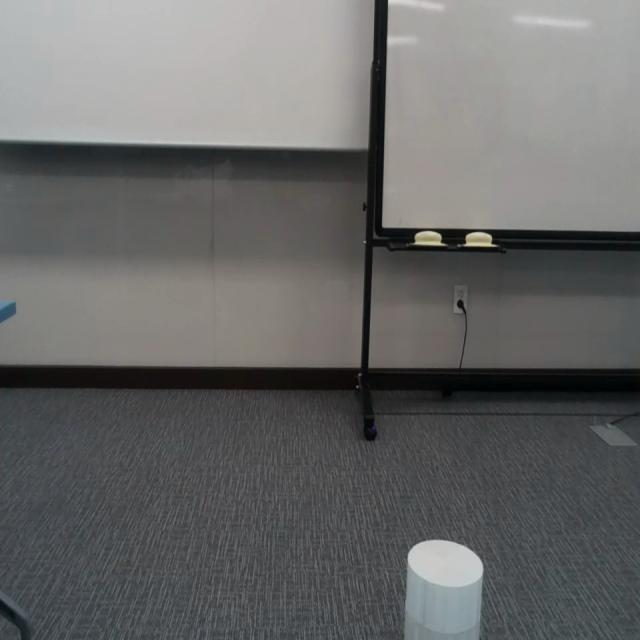cylinder: (404, 539, 484, 640)
